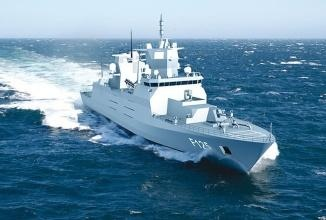warship: (83, 20, 275, 166)
